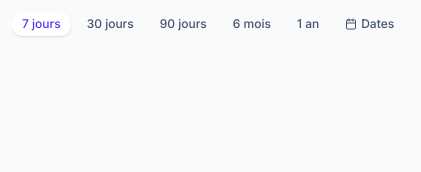
Test: PeriodPicker › n’ouvre le choix libre que sur demande
Click the button "Dates" at (370, 24), box [335, 12, 404, 36]
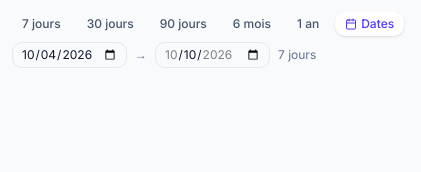
Now the date field named "Date de début" is shown, box [12, 42, 127, 68]
Now the date field named "Date de fin" is shown, box [155, 42, 270, 68]
